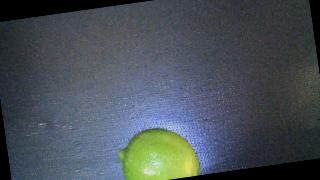EXPORTACION: (115, 123, 201, 180)
